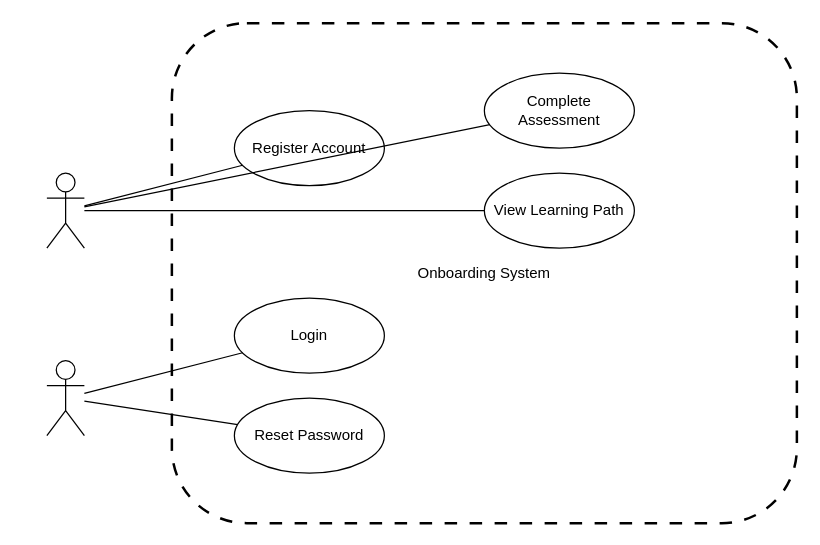
The diagram is 820 pixels wide and 545 high, and some of its shapes have lost their labels. Here are the shapes that lost their labels. From the top down, the box of each, then its label:
(46, 172, 84, 248): New User
(46, 359, 84, 436): Existing User
